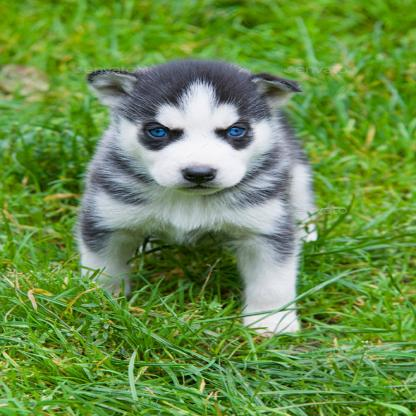husky: (78, 58, 310, 339)
